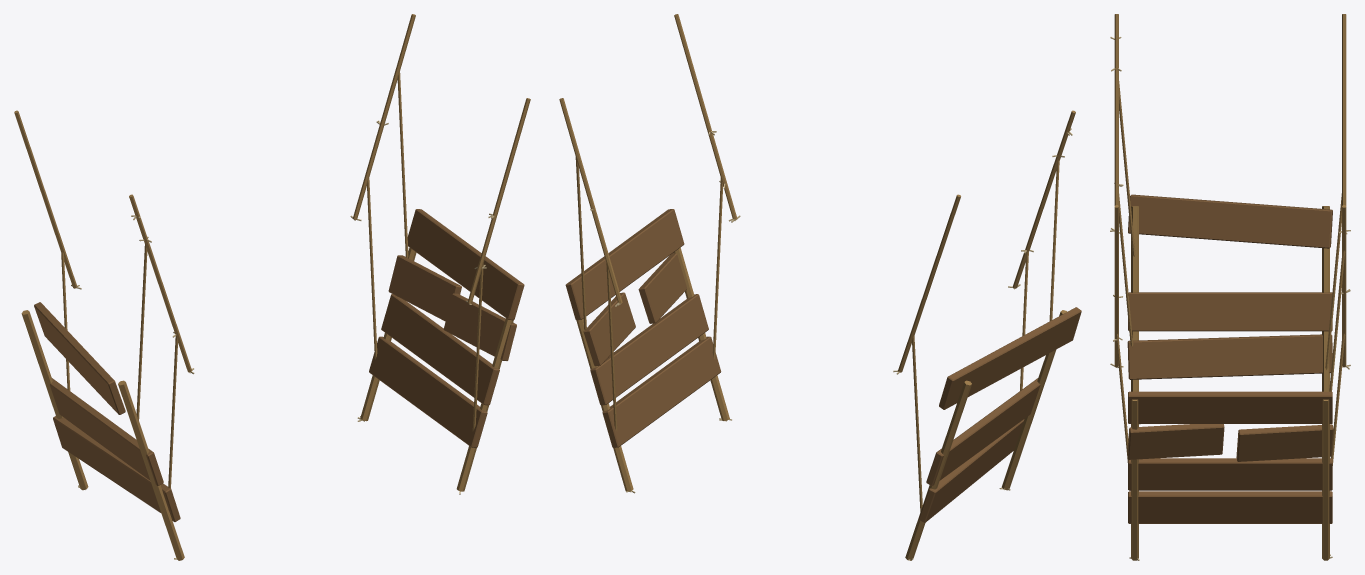
The model's file is Prop_YTM_RopeBridge_Seg_Snapped.glb.
3 renders of one model, left to right at view 1: azimuth 30°, elevation 25°; view 2: azimuth 150°, elevation 25°; view 3: azimuth 270°, elevation 25°, orthographic.
Parts seen in each view (by area): view 1: Prop_YTM_RopeBridge_Seg_Snapped; view 2: Prop_YTM_RopeBridge_Seg_Snapped; view 3: Prop_YTM_RopeBridge_Seg_Snapped.
Part boxes in pixels (x1,y1,x2,y2): Prop_YTM_RopeBridge_Seg_Snapped: (14,14,530,560); Prop_YTM_RopeBridge_Seg_Snapped: (559,14,1081,560); Prop_YTM_RopeBridge_Seg_Snapped: (1110,14,1350,560).
Bounding box in the file's own units: 2.09 × 1.86 × 1.06.
